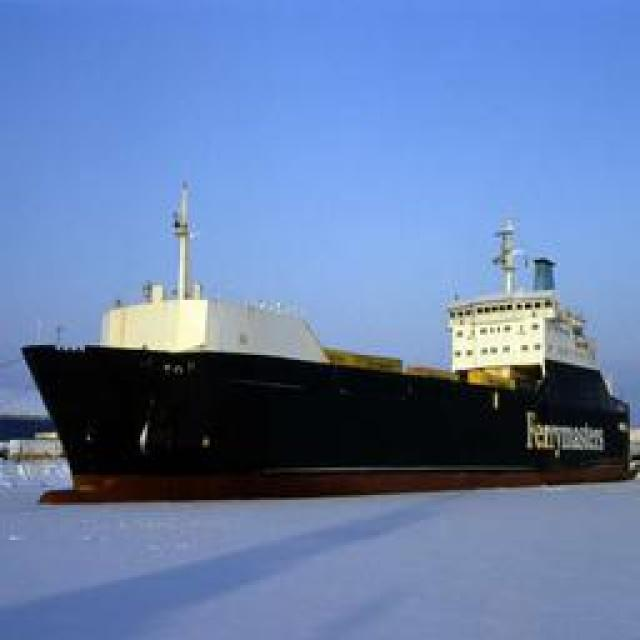ship2: (21, 188, 638, 504)
